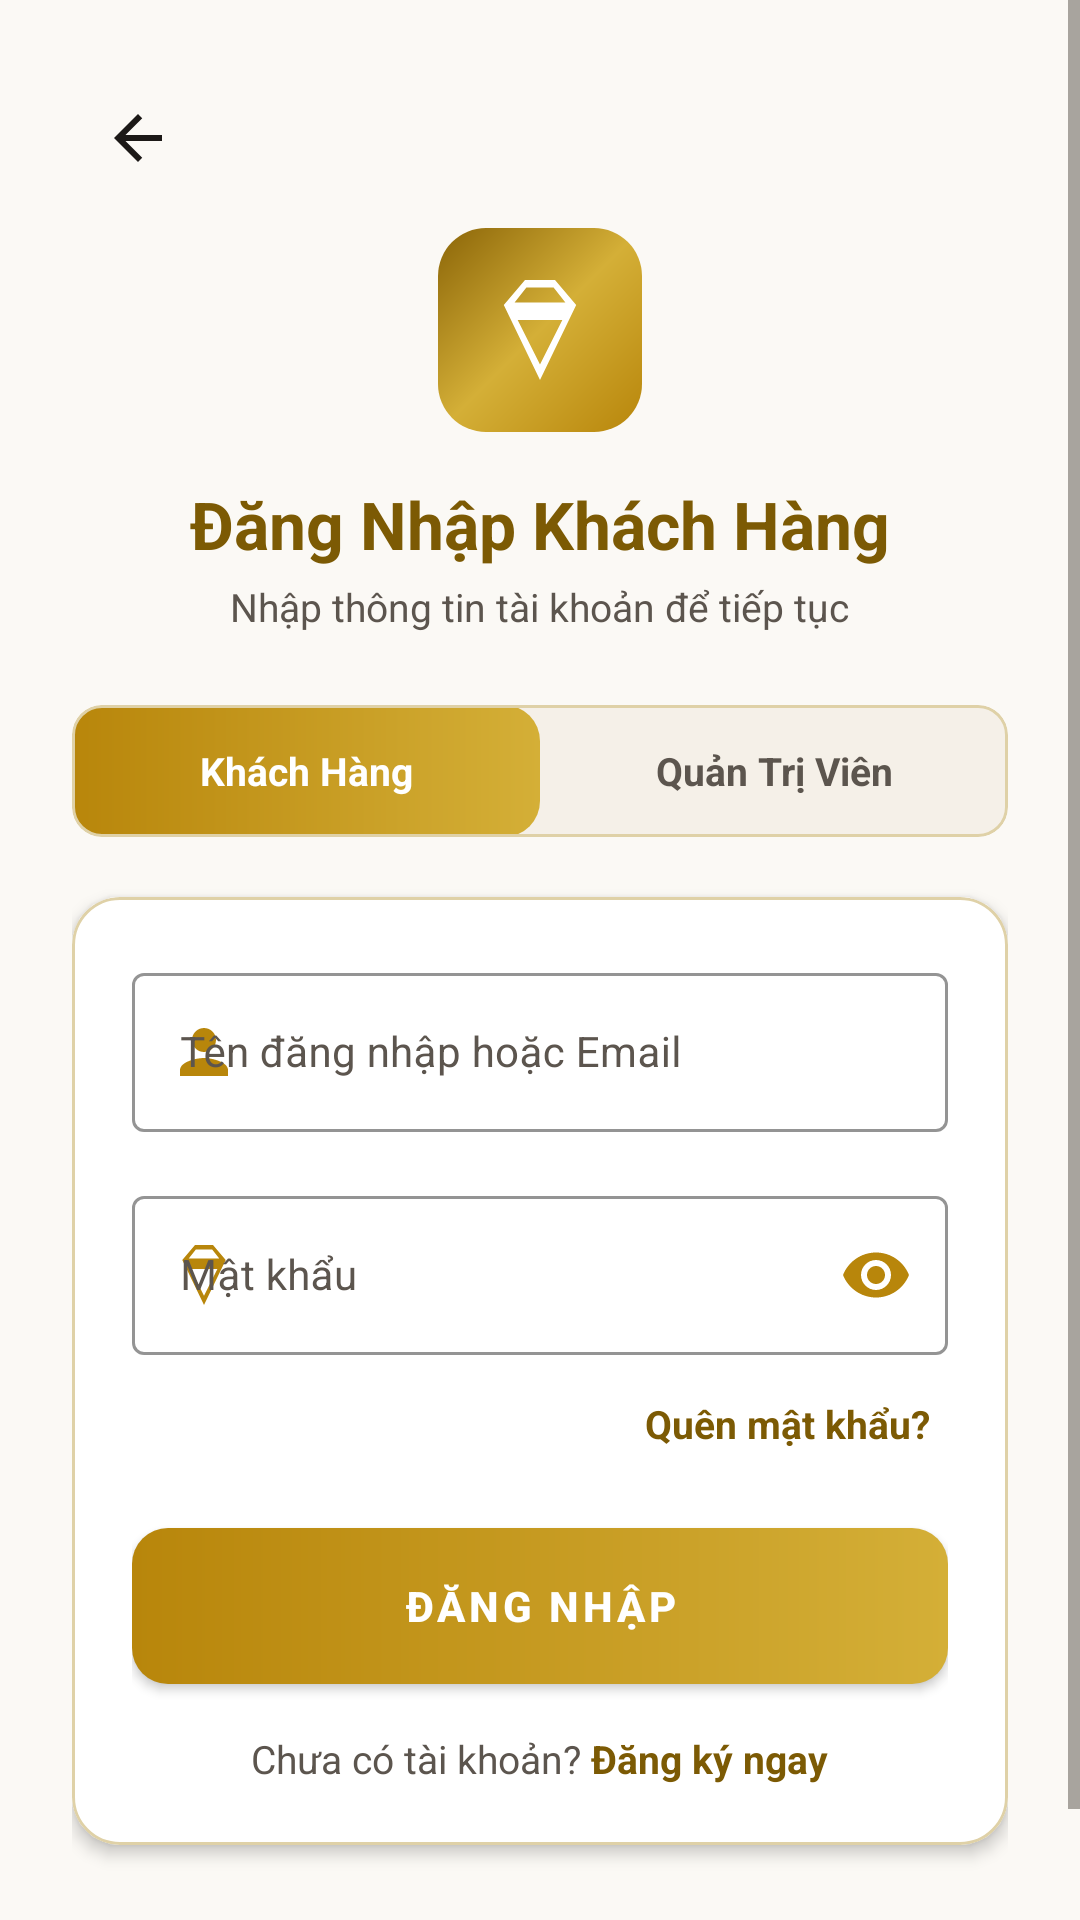

Icon bounding boxes for this 1080*1920 phone screenshot, format bbox=(x1, y1, x2, y2):
diamond: bbox=(438, 228, 642, 432)
Quay lại: bbox=(114, 114, 162, 162)
